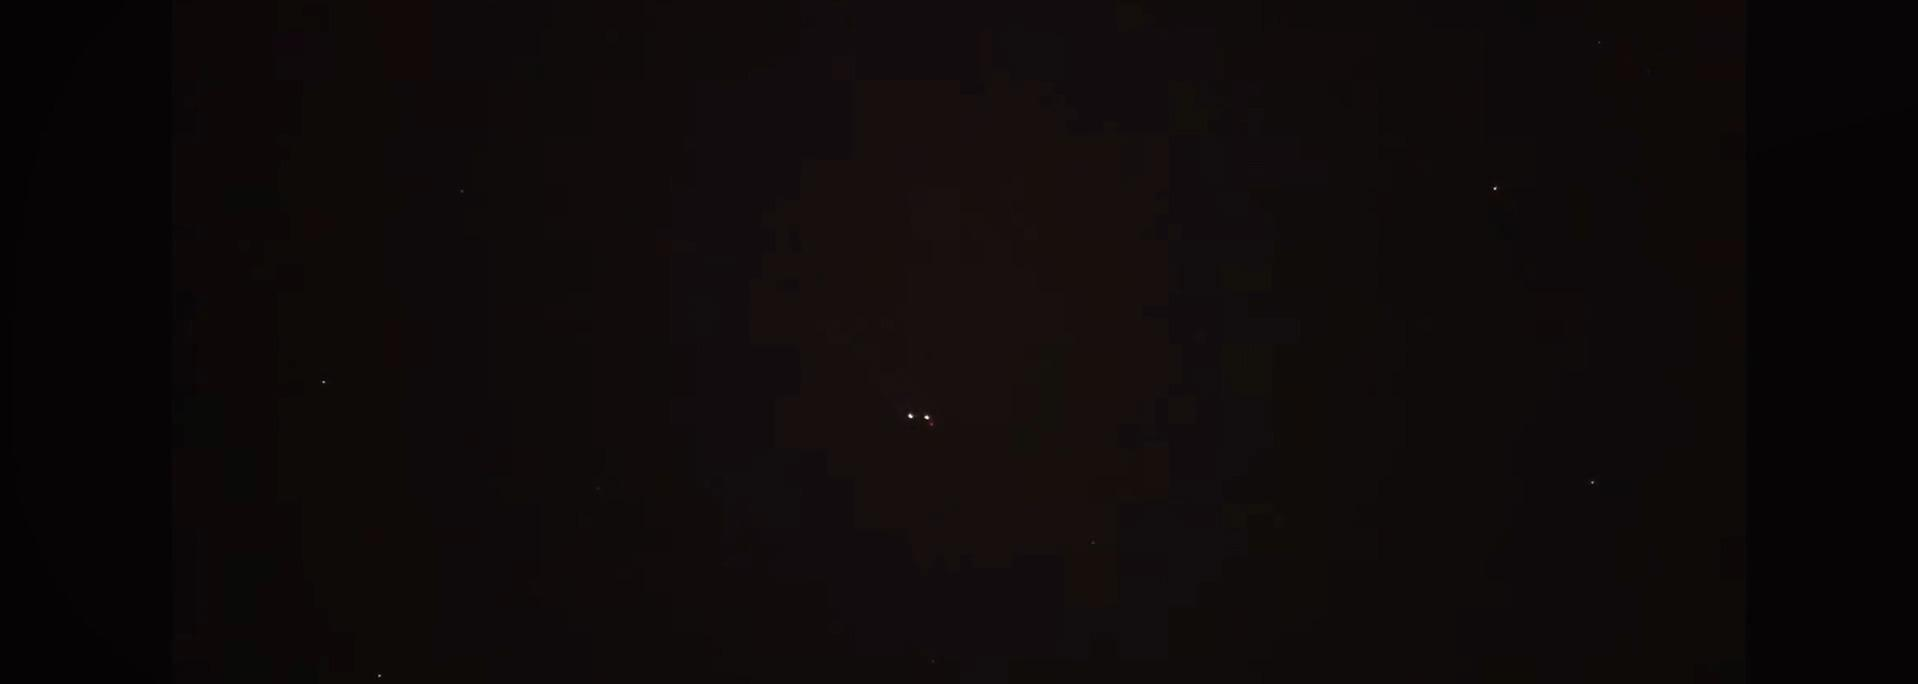Plane: (876, 400, 965, 437)
